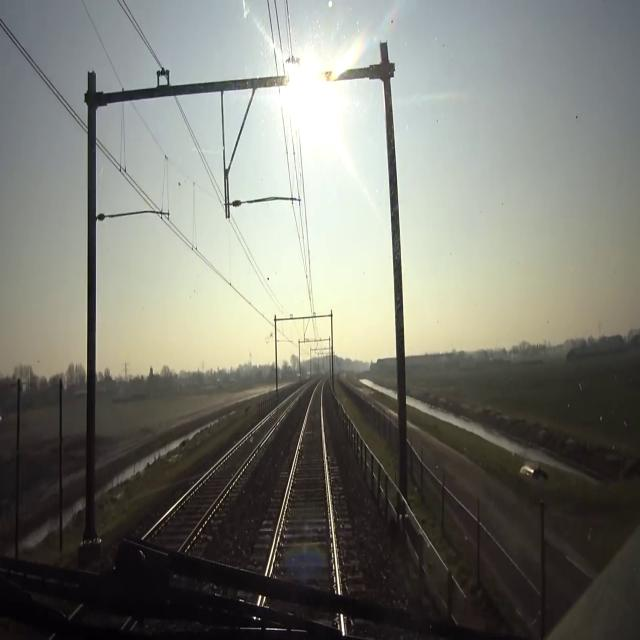rail-track: (149, 402, 289, 549), (269, 385, 337, 598)
